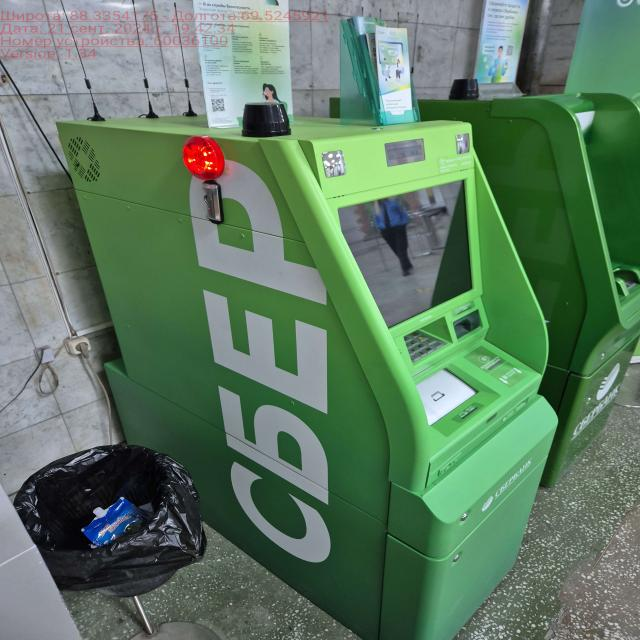bank: (58, 119, 556, 640), (414, 94, 640, 489)
